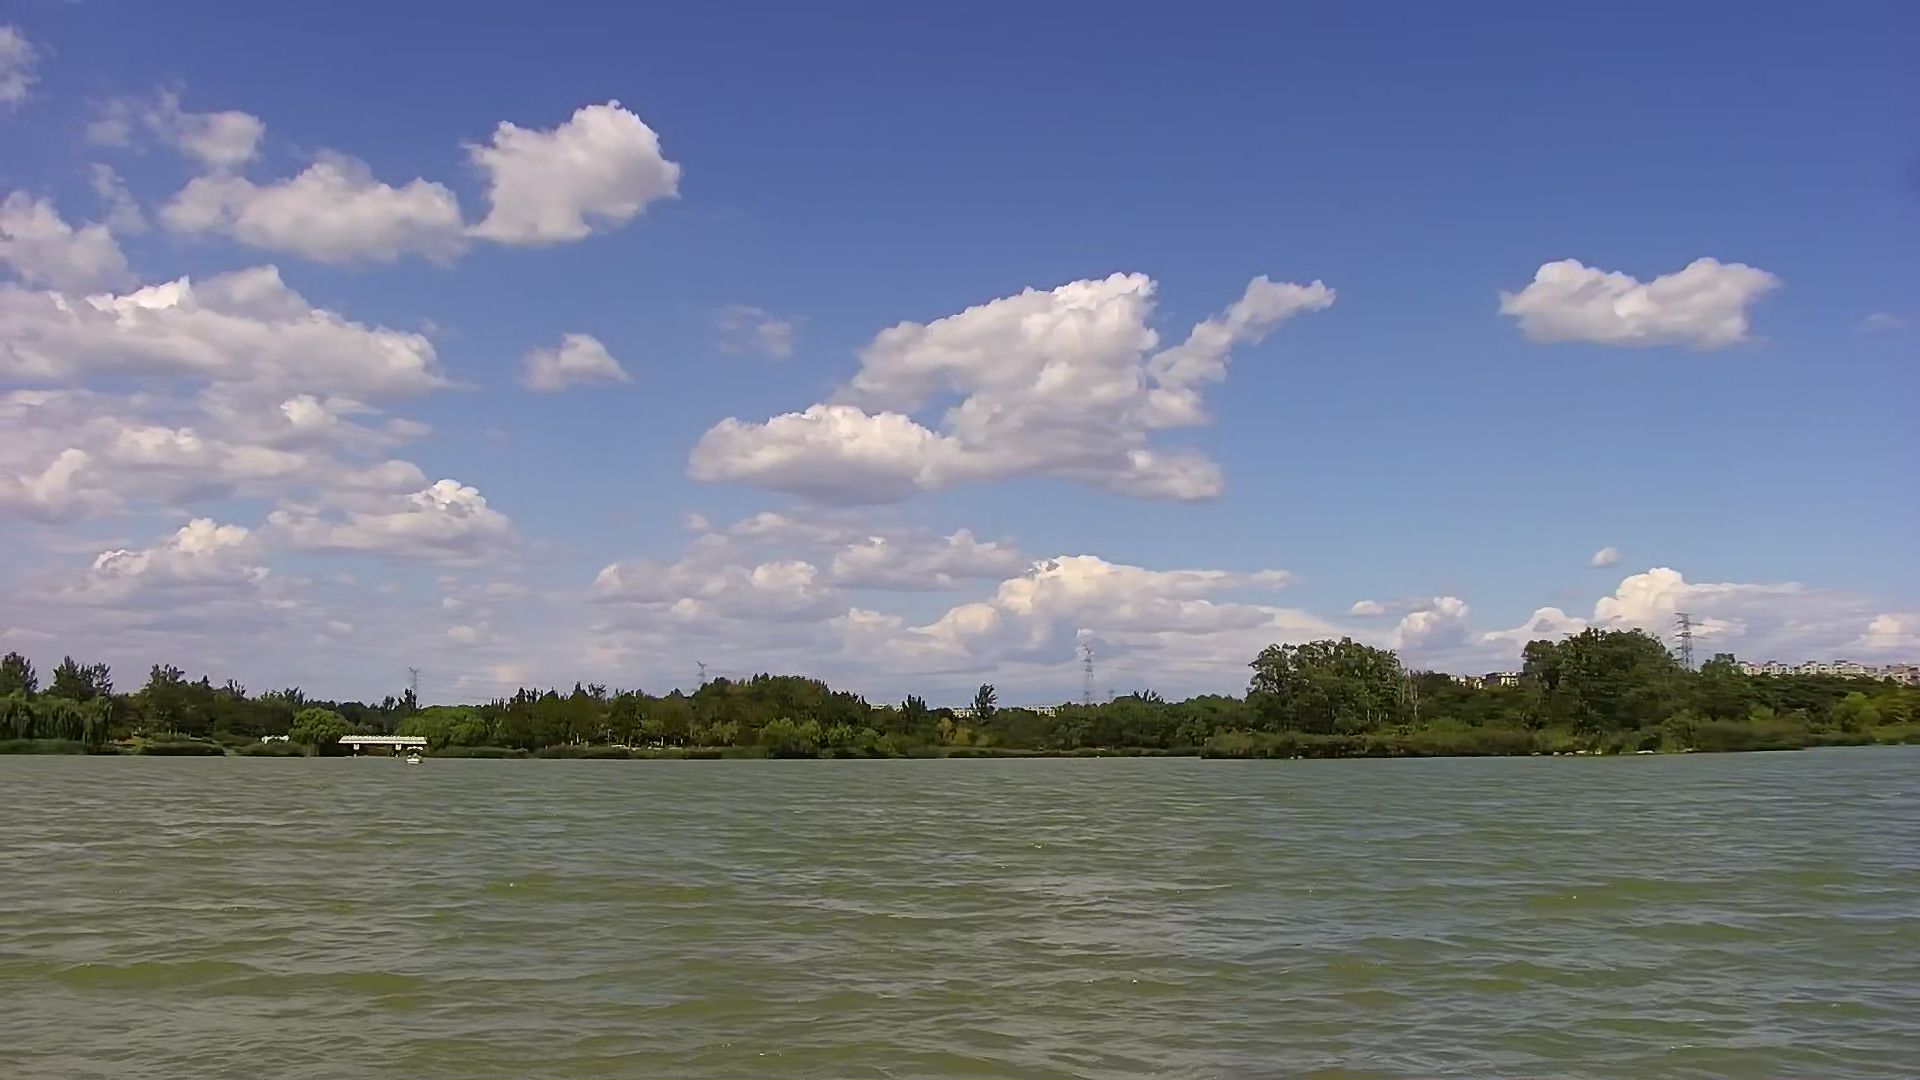bridge: (324, 727, 440, 760)
